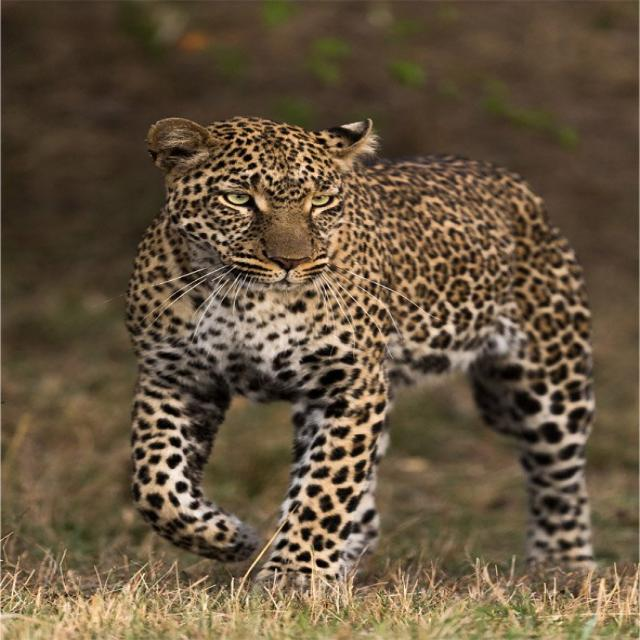Leopard: (116, 113, 602, 602)
